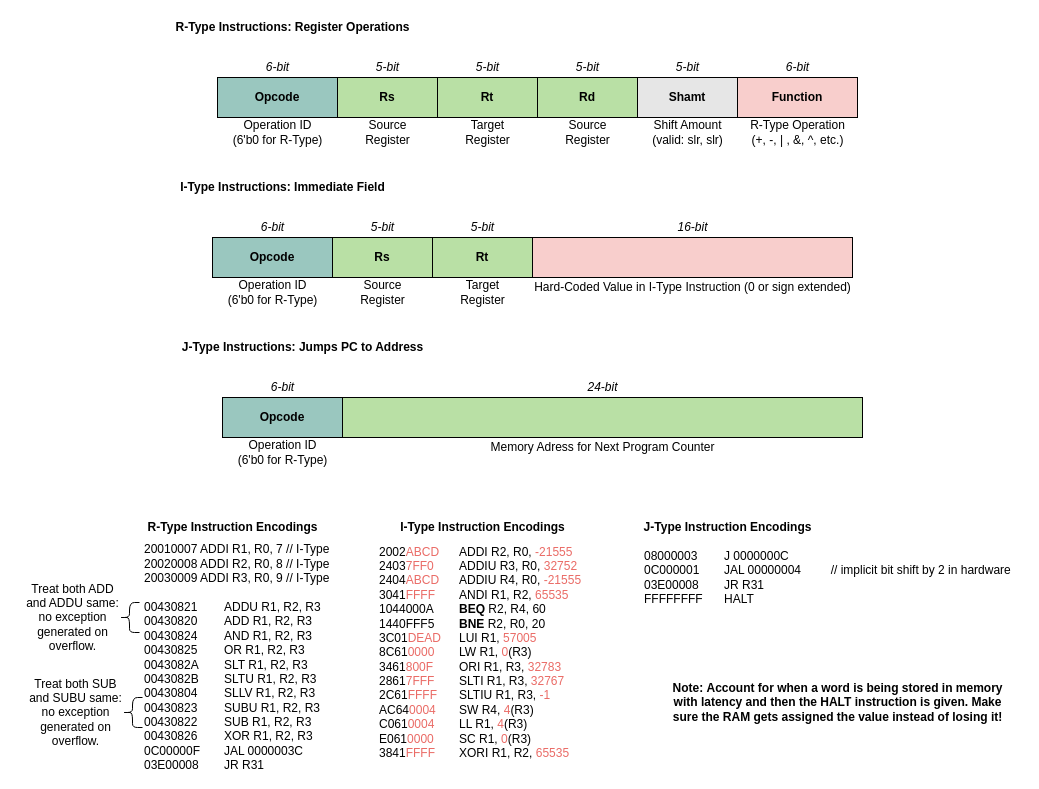
This 1039x789 diagram has some shape labels left out. The shapes that lost their labels are listed below. From the top down, each one's centre as x and y in pixels, then its label:
At pixel 692 257: "Immediate (<imm16>)".
At pixel 602 417: "Memory Address".
